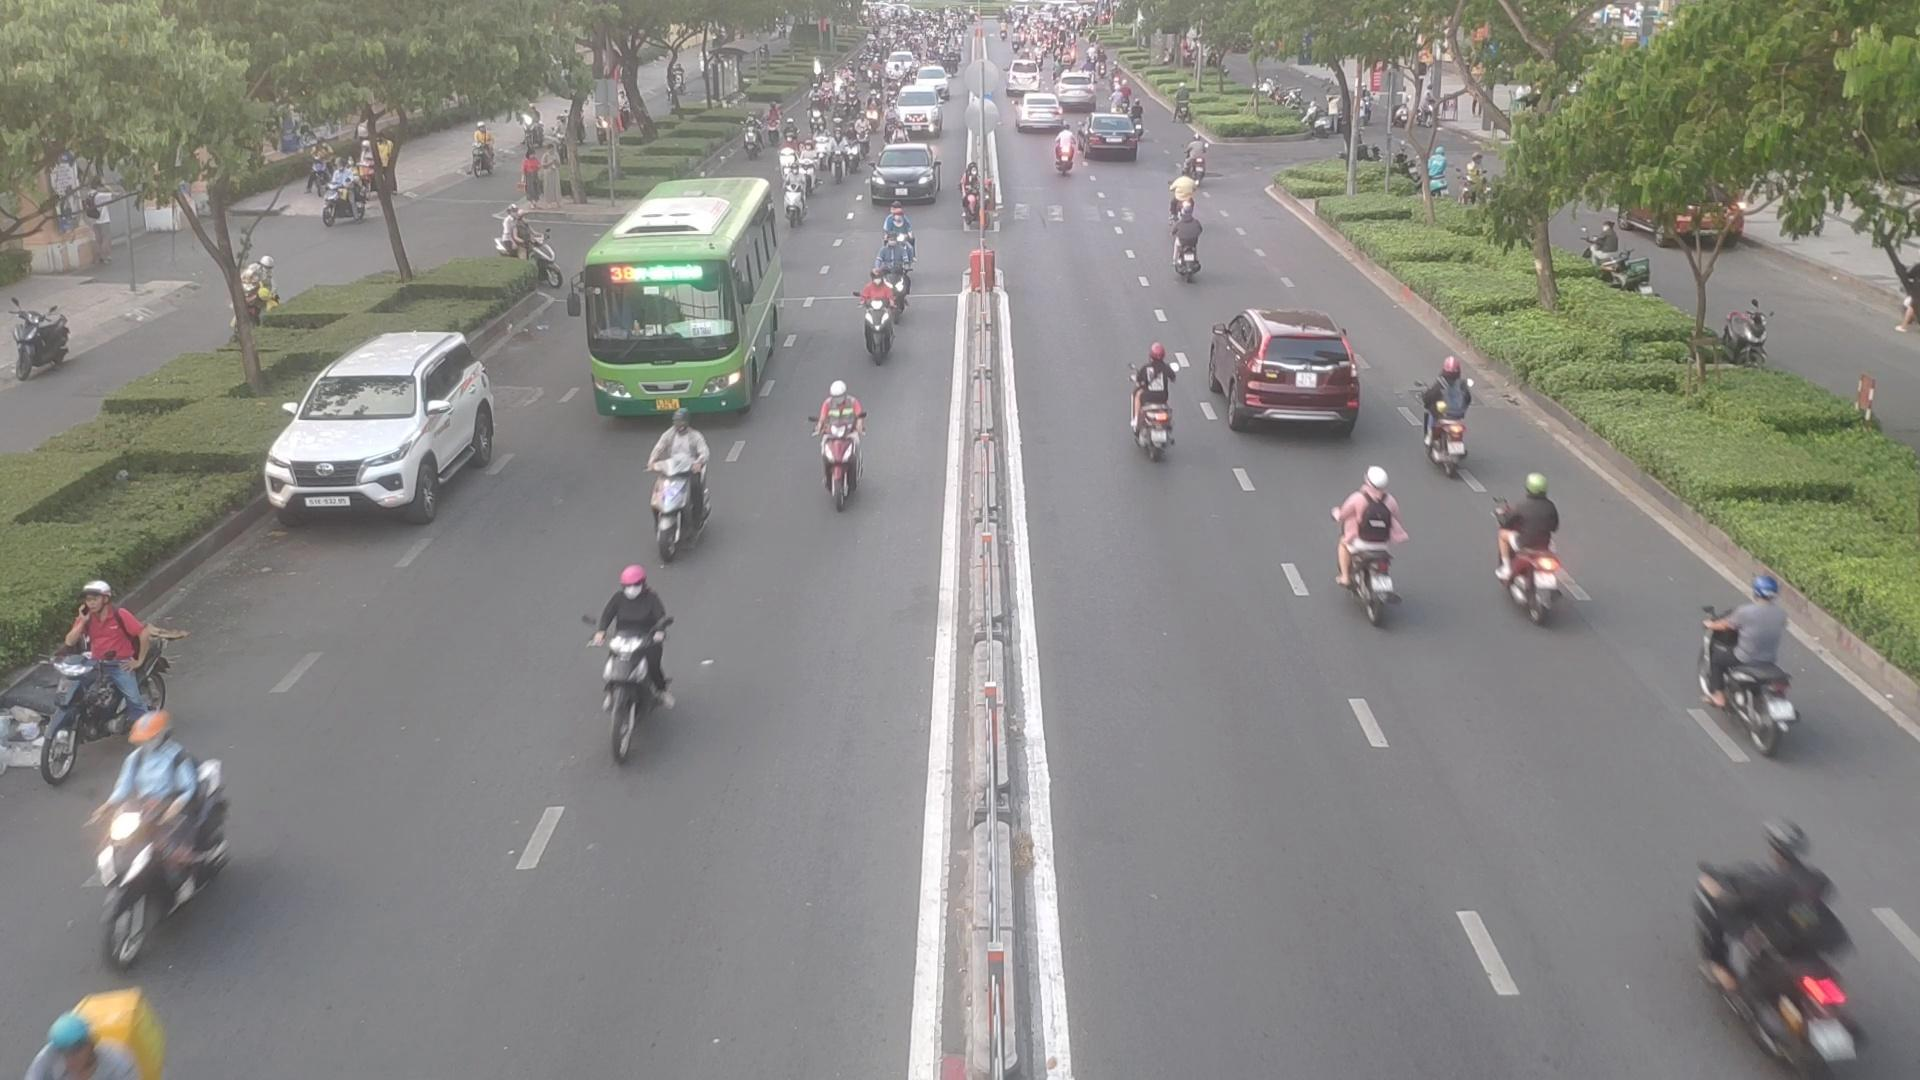bus: (570, 174, 790, 431)
car: (266, 331, 512, 527), (1207, 305, 1369, 435), (873, 145, 948, 208), (1015, 95, 1065, 133)
motorbike: (1691, 814, 1869, 1077), (76, 719, 225, 951), (7, 585, 171, 738), (1695, 584, 1807, 758), (587, 574, 678, 746), (1490, 481, 1578, 621), (1323, 480, 1406, 620), (641, 419, 713, 545), (802, 388, 872, 508), (1416, 359, 1480, 477), (1124, 347, 1185, 459), (851, 276, 910, 365), (1164, 211, 1205, 280), (1048, 132, 1077, 175)
